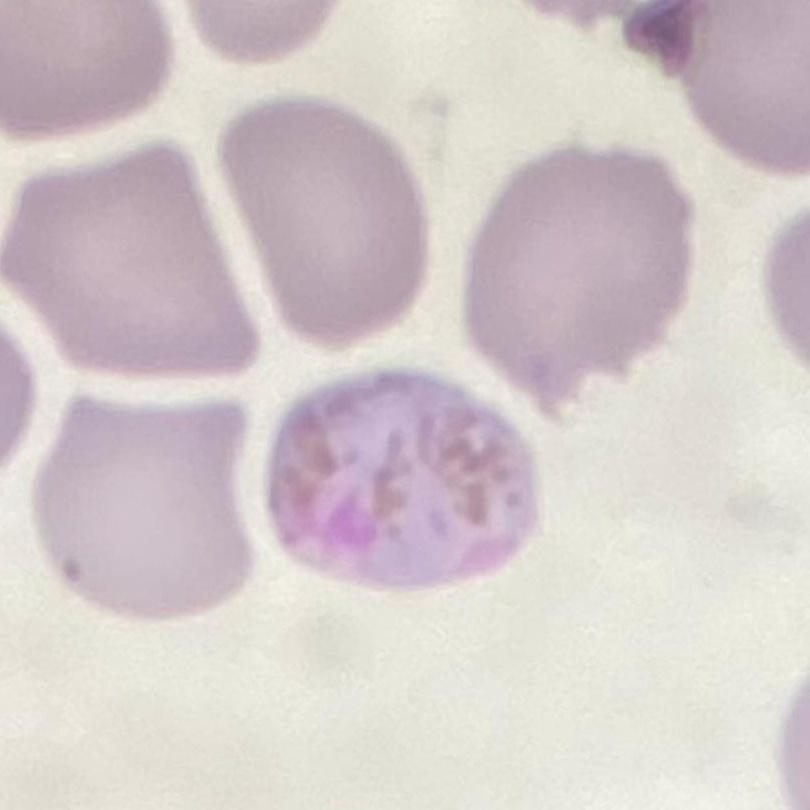Infected: (262, 373, 540, 594)
Uninfected: (460, 145, 693, 420), (4, 147, 260, 382), (218, 91, 427, 354), (32, 395, 253, 624)
